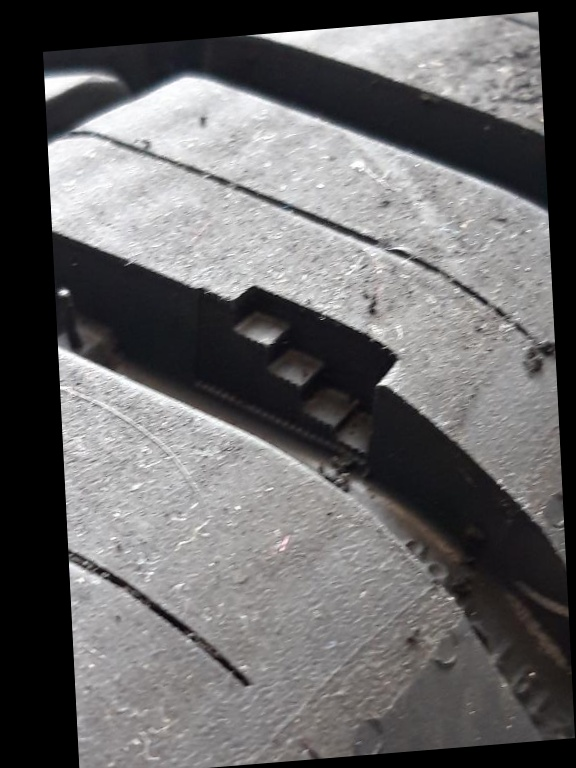temoin:95: (185, 254, 415, 501)
